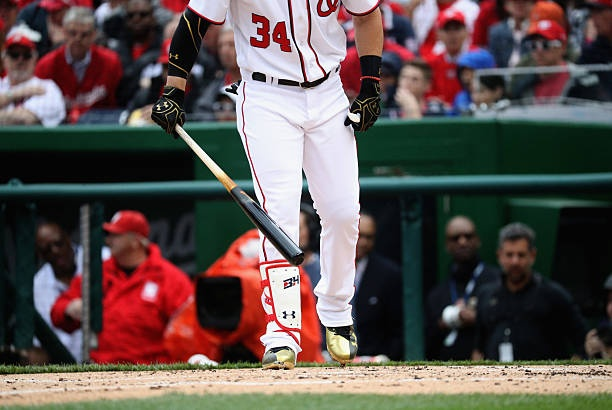bita: (175, 125, 302, 265)
